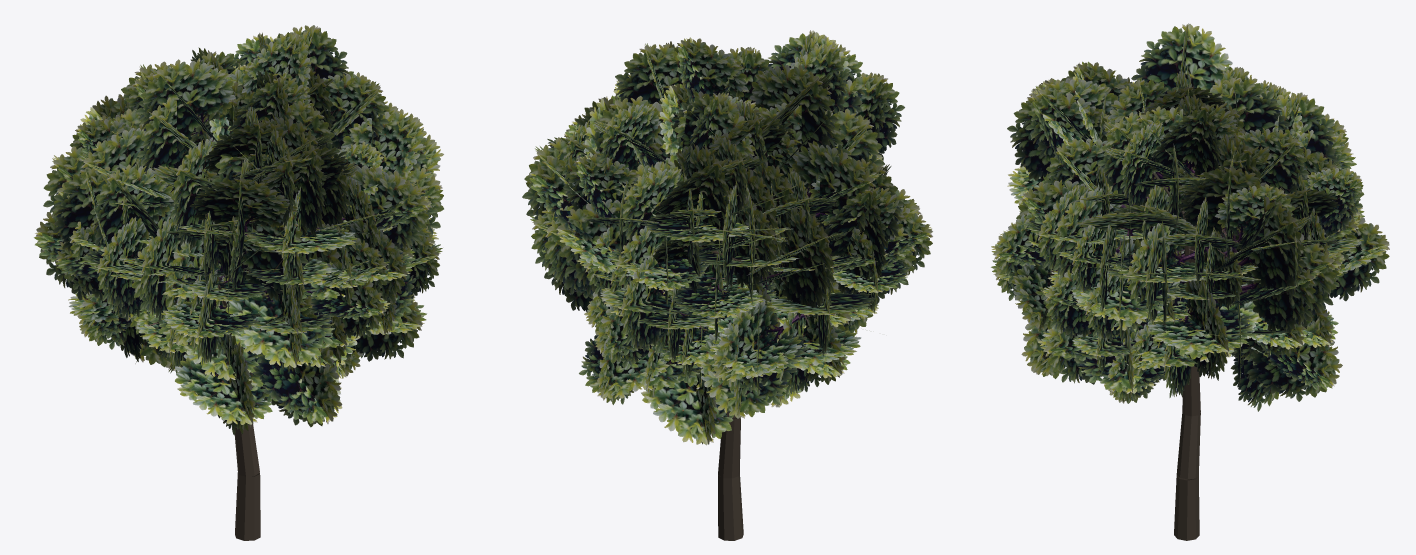
The model's file is category_mesh_tree_1_v1.glb.
The picture shows the model from 3 angles, left to right: view 1: azimuth 30°, elevation 25°; view 2: azimuth 150°, elevation 25°; view 3: azimuth 270°, elevation 25°; orthographic projection. The views are drawn at different scales.
Visible parts, largest first — view 1: category_mesh_tree_1_v1; view 2: category_mesh_tree_1_v1; view 3: category_mesh_tree_1_v1.
Part boxes in pixels (x1,y1,x2,y2): category_mesh_tree_1_v1: (34, 25, 443, 540); category_mesh_tree_1_v1: (522, 30, 932, 540); category_mesh_tree_1_v1: (991, 23, 1389, 540).
Bounding box in the file's own units: 13.73 × 16.99 × 13.25.
Materials: 1 (1 with a texture image).
